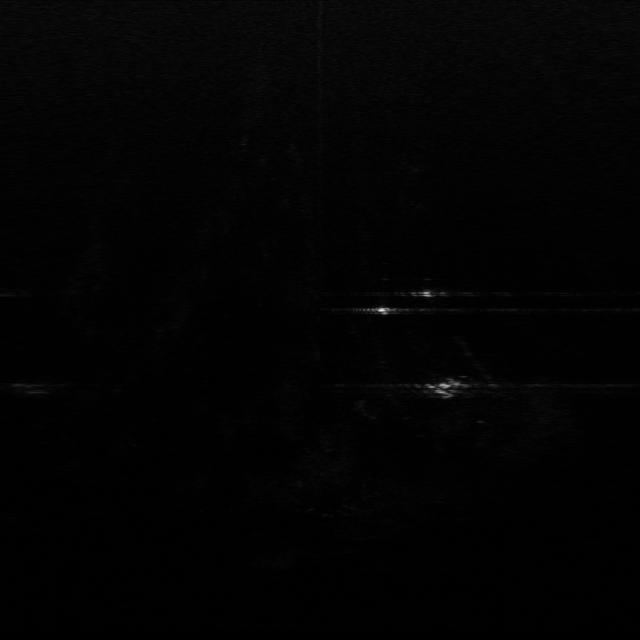rov: (423, 379, 468, 401)
